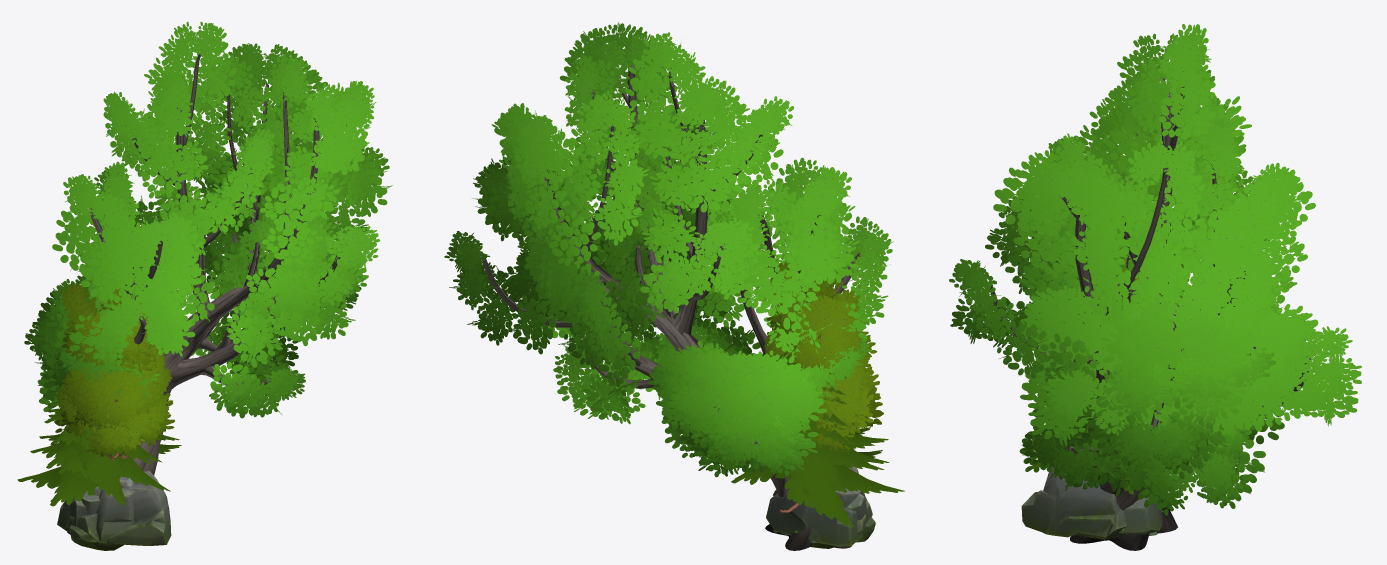
File: nature.glb
3 renders of one model, left to right at view 1: azimuth 30°, elevation 25°; view 2: azimuth 150°, elevation 25°; view 3: azimuth 270°, elevation 25°, orthographic. The views are drawn at different scales.
Parts seen in each view (by area): view 1: TwistedTree_1, CommonTree_3, Pine_2, CommonTree_1, Rock_Medium_3, CommonTree_2, Rock_Medium_1, Pine_1, Rock_Medium_2; view 2: TwistedTree_1, CommonTree_3, Pine_2, Rock_Medium_2, CommonTree_1, Pine_1, CommonTree_2, Rock_Medium_3; view 3: TwistedTree_1, Rock_Medium_3, Rock_Medium_2.
Boxes of the visible parts, <box> form: TwistedTree_1: <box>24,21,392,534</box>; CommonTree_3: <box>61,283,172,433</box>; Pine_2: <box>17,357,181,506</box>; CommonTree_1: <box>54,341,175,456</box>; Rock_Medium_3: <box>70,470,171,550</box>; CommonTree_2: <box>57,338,172,459</box>; Rock_Medium_1: <box>66,476,134,543</box>; Pine_1: <box>30,354,169,481</box>; Rock_Medium_2: <box>57,491,99,533</box>; TwistedTree_1: <box>444,22,893,550</box>; CommonTree_3: <box>766,262,877,432</box>; Pine_2: <box>731,358,904,527</box>; Rock_Medium_2: <box>766,488,862,546</box>; CommonTree_1: <box>761,332,883,451</box>; Pine_1: <box>765,347,889,513</box>; CommonTree_2: <box>763,329,882,442</box>; Rock_Medium_3: <box>773,490,875,542</box>; TwistedTree_1: <box>949,24,1361,550</box>; Rock_Medium_3: <box>1021,465,1120,537</box>; Rock_Medium_2: <box>1118,497,1162,534</box>.
Size of the model in its own units: 14.23 by 16.84 by 11.55.
11 materials, 11 textured.
